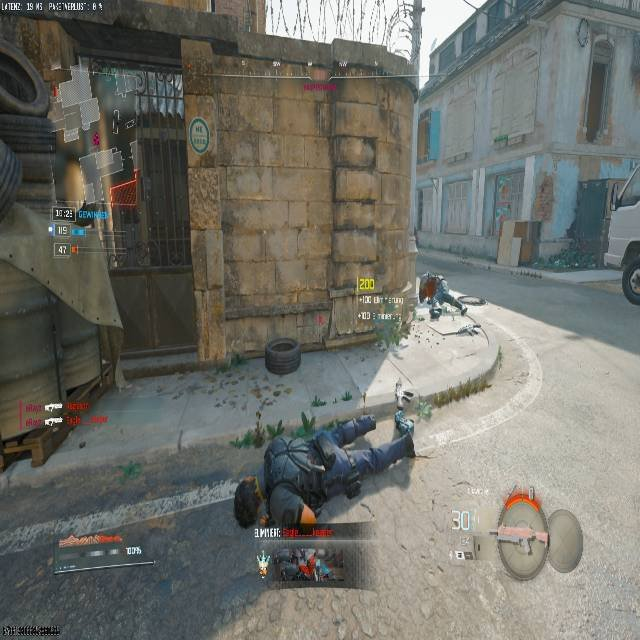player: (234, 403, 418, 575), (415, 269, 461, 321)
